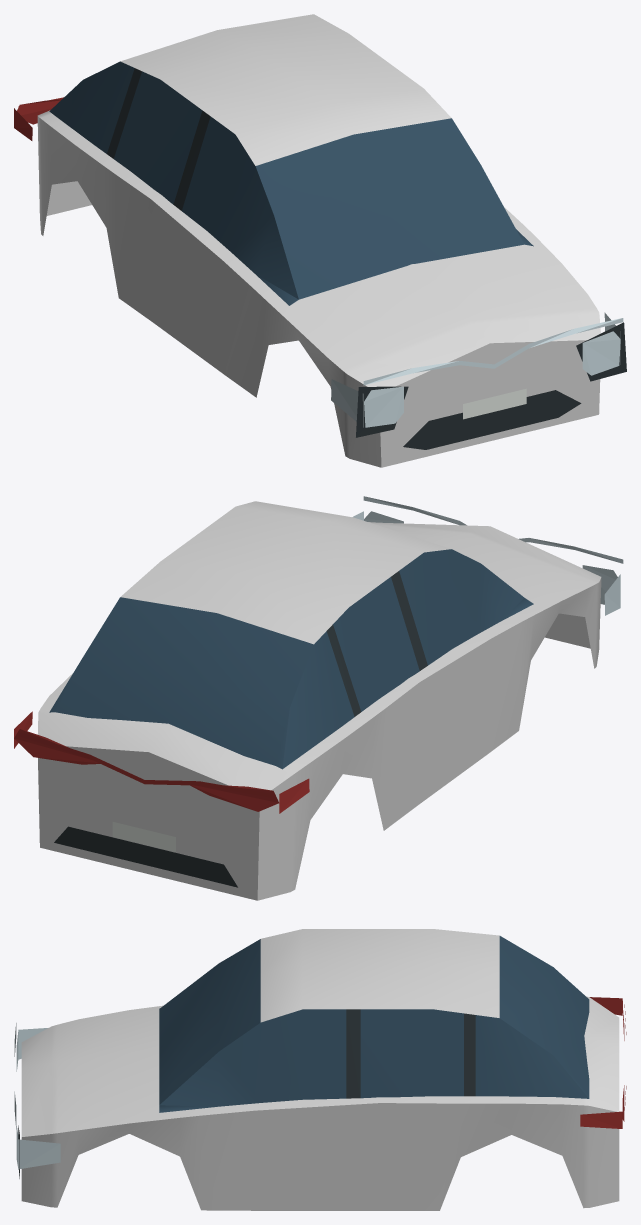
The model's file is veh_vf6-lod2.glb.
3 renders of one model, top to bottom at view 1: azimuth 30°, elevation 25°; view 2: azimuth 150°, elevation 25°; view 3: azimuth 270°, elevation 25°, orthographic. The views are drawn at different scales.
Visible parts, largest first — view 1: paint, glass, trim, head, plate, tail; view 2: paint, glass, trim, tail, head, plate; view 3: paint, glass, trim, head, tail.
Part boxes in pixels (x1,y1,x2,y2): paint: (37,14,600,467); glass: (49,61,533,305); trim: (107,68,626,449); head: (331,312,623,427); plate: (463,388,526,419); tail: (14,97,63,140); paint: (37,501,601,900); glass: (49,549,533,769); trim: (54,571,427,887); tail: (14,711,309,813); head: (352,496,623,615); plate: (112,822,175,852); paint: (21,929,619,1210); glass: (159,936,589,1112); trim: (18,1009,475,1178); head: (14,1023,60,1169); tail: (580,997,626,1128).
Bounding box in the file's own units: 1.33 × 1.01 × 2.9.
